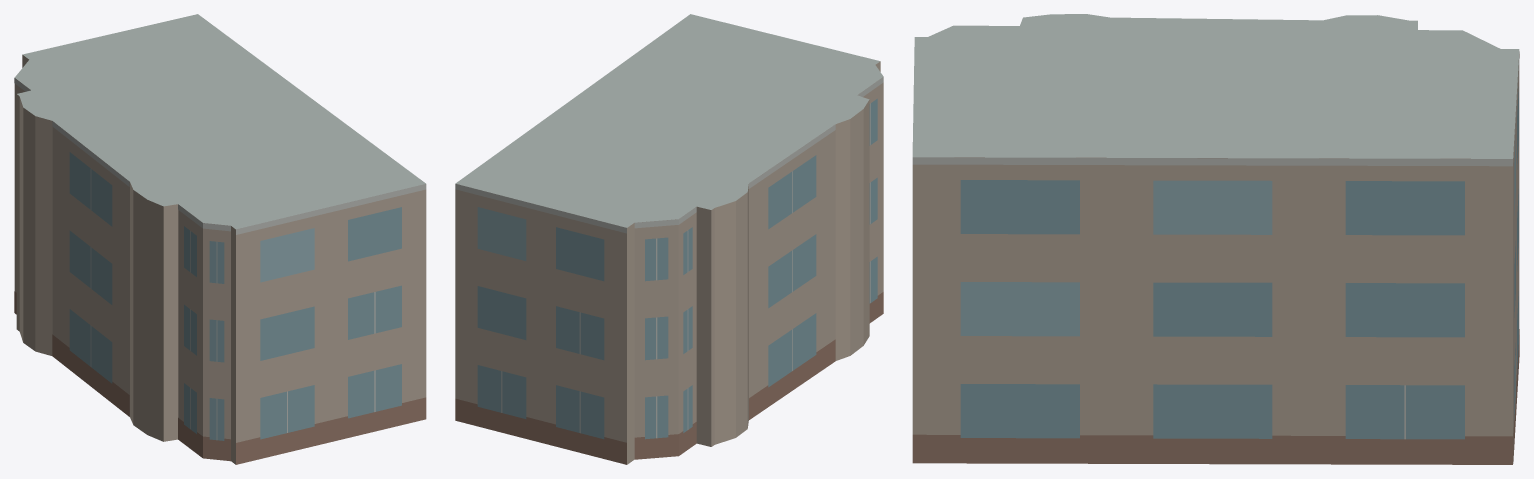
Rendered from survey-upis-32547605.glb.
3 renders of one model, left to right at view 1: azimuth 30°, elevation 25°; view 2: azimuth 150°, elevation 25°; view 3: azimuth 270°, elevation 25°, orthographic. The views are drawn at different scales.
Visible parts, largest first — view 1: survey-upis-32547605.tmp; view 2: survey-upis-32547605.tmp; view 3: survey-upis-32547605.tmp.
Boxes of the visible parts, x1,y1,x2,y2 form: survey-upis-32547605.tmp: (14, 14, 426, 464); survey-upis-32547605.tmp: (455, 14, 883, 464); survey-upis-32547605.tmp: (912, 14, 1519, 464).
Bounding box in the file's own units: 10.37 × 10.2 × 18.35.
